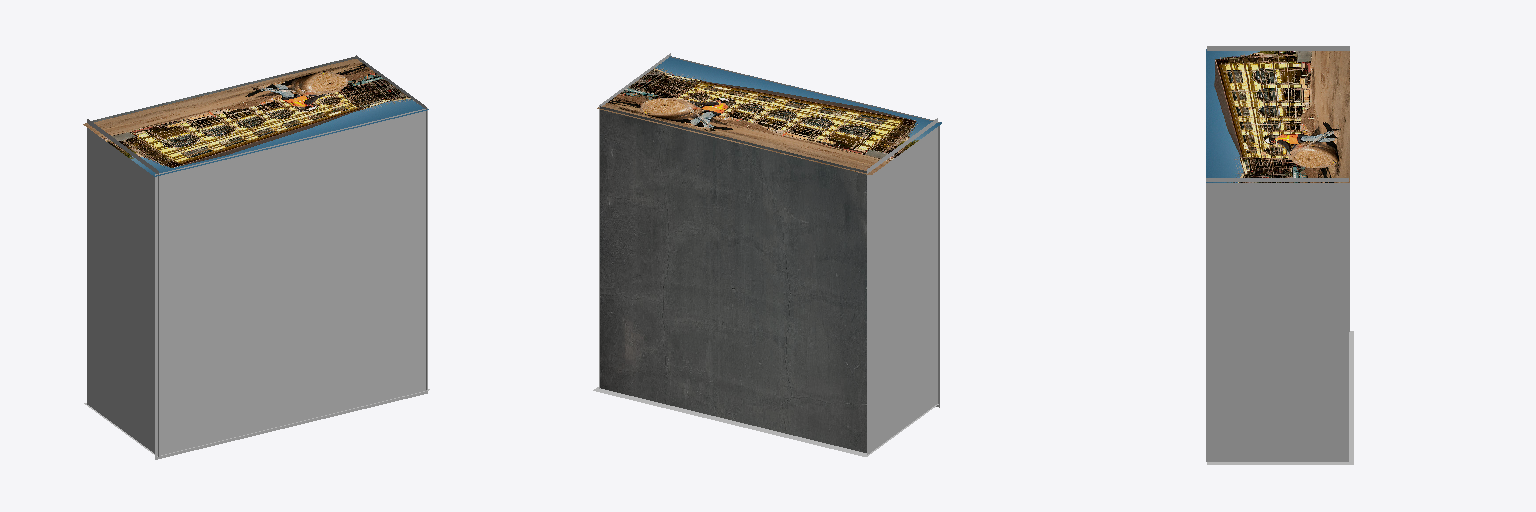
3 renders of one model, left to right at view 1: azimuth 30°, elevation 25°; view 2: azimuth 150°, elevation 25°; view 3: azimuth 270°, elevation 25°, orthographic.
Visible parts, largest first — view 1: Ceiling_Plane.005, h3_Plane.003, h4_Plane.004, floor_Plane; view 2: floor_Plane, h3_Plane.003, h4_Plane.004, h2_Plane.002, Ceiling_Plane.005; view 3: h1_Plane.001, h4_Plane.004, h2_Plane.002, h3_Plane.003.
Boxes of the visible parts, x1=… form: Ceiling_Plane.005: x1=155, y1=108, x2=427, y2=459; h3_Plane.003: x1=87, y1=119, x2=158, y2=456; h4_Plane.004: x1=83, y1=59, x2=428, y2=176; floor_Plane: x1=91, y1=56, x2=355, y2=122; floor_Plane: x1=600, y1=106, x2=866, y2=452; h3_Plane.003: x1=867, y1=118, x2=937, y2=454; h4_Plane.004: x1=597, y1=56, x2=941, y2=174; h2_Plane.002: x1=593, y1=387, x2=938, y2=456; Ceiling_Plane.005: x1=669, y1=56, x2=939, y2=407; h1_Plane.001: x1=1206, y1=178, x2=1348, y2=461; h4_Plane.004: x1=1206, y1=49, x2=1349, y2=182; h2_Plane.002: x1=1207, y1=331, x2=1353, y2=464; h3_Plane.003: x1=1207, y1=46, x2=1349, y2=331.
Size of the model in its own units: 6 by 5.99 by 2.78.
6 materials, 2 textured.